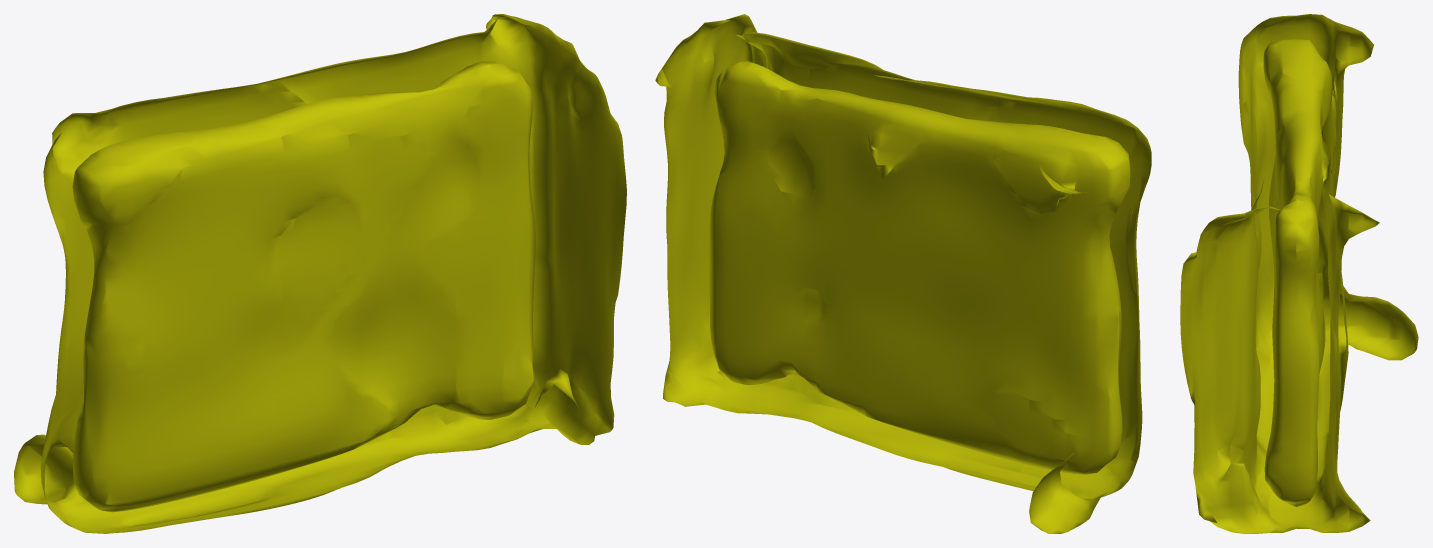
The picture shows the model from 3 angles, left to right: view 1: azimuth 30°, elevation 25°; view 2: azimuth 150°, elevation 25°; view 3: azimuth 270°, elevation 25°; orthographic projection. The views are drawn at different scales.
Parts seen in each view (by area): view 1: world; view 2: world; view 3: world.
Part boxes in pixels (x1,y1,x2,y2): world: (14, 14, 626, 533); world: (655, 14, 1151, 533); world: (1180, 14, 1418, 533).
Bounding box in the file's own units: 37.89 × 29.62 × 18.11.
